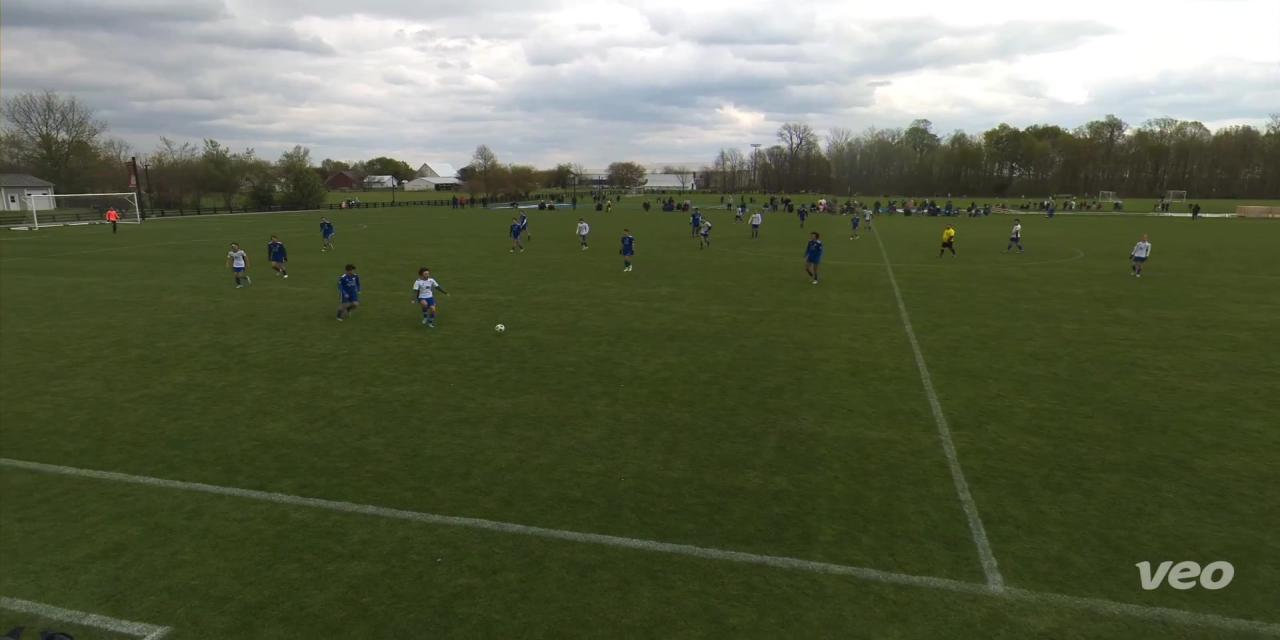goal: (0, 185, 147, 240)
sports ball: (491, 319, 511, 339)
